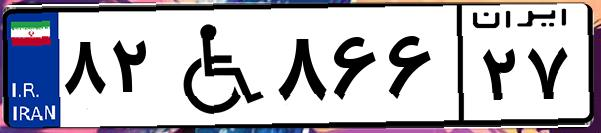2: (475, 38, 525, 113), (110, 28, 158, 98)
6: (385, 28, 445, 110), (330, 28, 385, 110)
7: (525, 38, 570, 115)
8: (270, 28, 330, 110), (57, 26, 110, 100)
ژ (معلولین و جانبازان): (158, 12, 270, 120)
